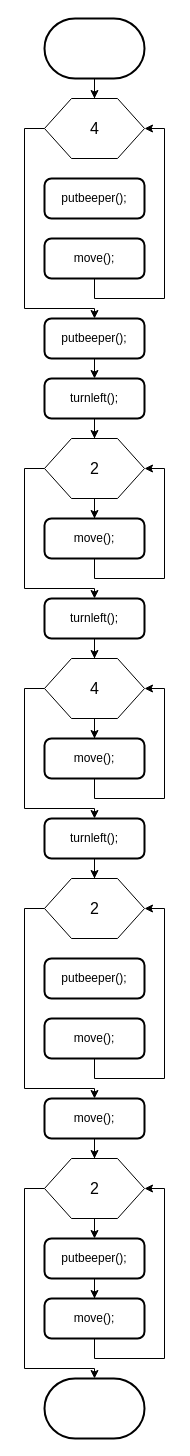
This 190x1456 diagram has some shape labels left out. The centre of each missing label's shape, as x and y in pixels:
"FIN" belongs at [94,1408].
"Inicio" belongs at [94,48].
